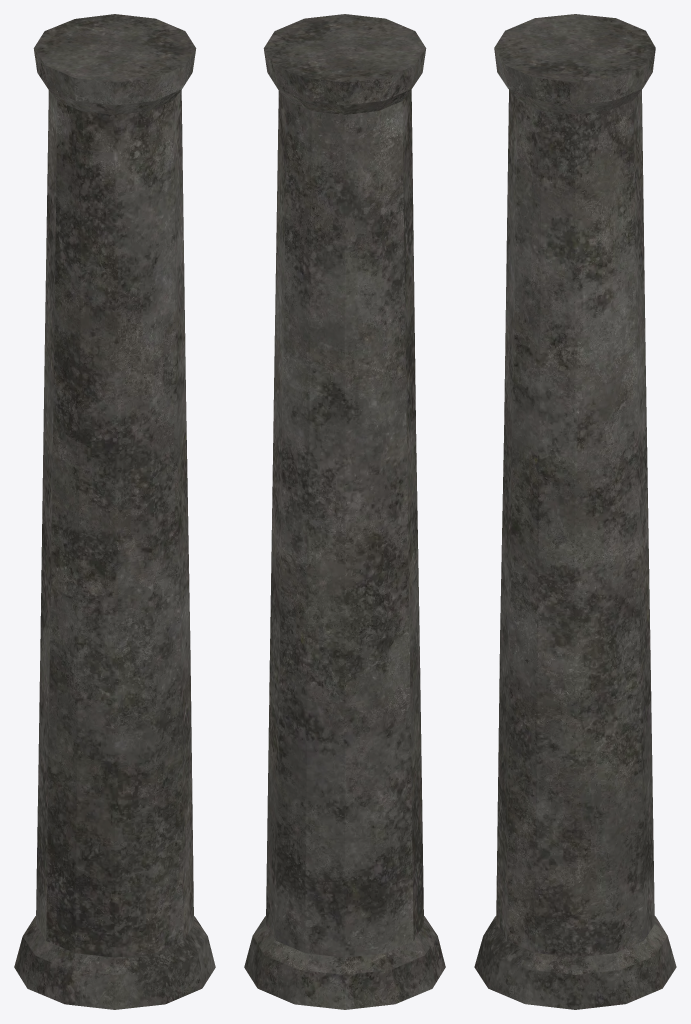
Rendered from pillar_with_ancient_runes-transformed.glb.
3 views of the same model, side by side, from view 1: azimuth 30°, elevation 25°; view 2: azimuth 150°, elevation 25°; view 3: azimuth 270°, elevation 25° (orthographic).
Parts seen in each view (by area): view 1: polySurface1_Material.002_0; view 2: polySurface1_Material.002_0; view 3: polySurface1_Material.002_0.
Part boxes in pixels (x1,y1,x2,y2): polySurface1_Material.002_0: [14, 14, 215, 1009]; polySurface1_Material.002_0: [244, 14, 445, 1009]; polySurface1_Material.002_0: [474, 14, 676, 1009].
Size of the model in its own units: 0.1712 by 0.8585 by 0.1712.
Materials: 1 (1 with a texture image).
